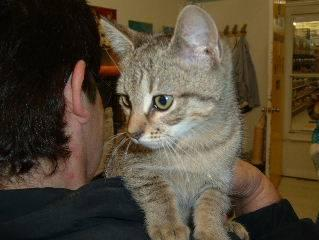cat: (99, 5, 289, 239)
